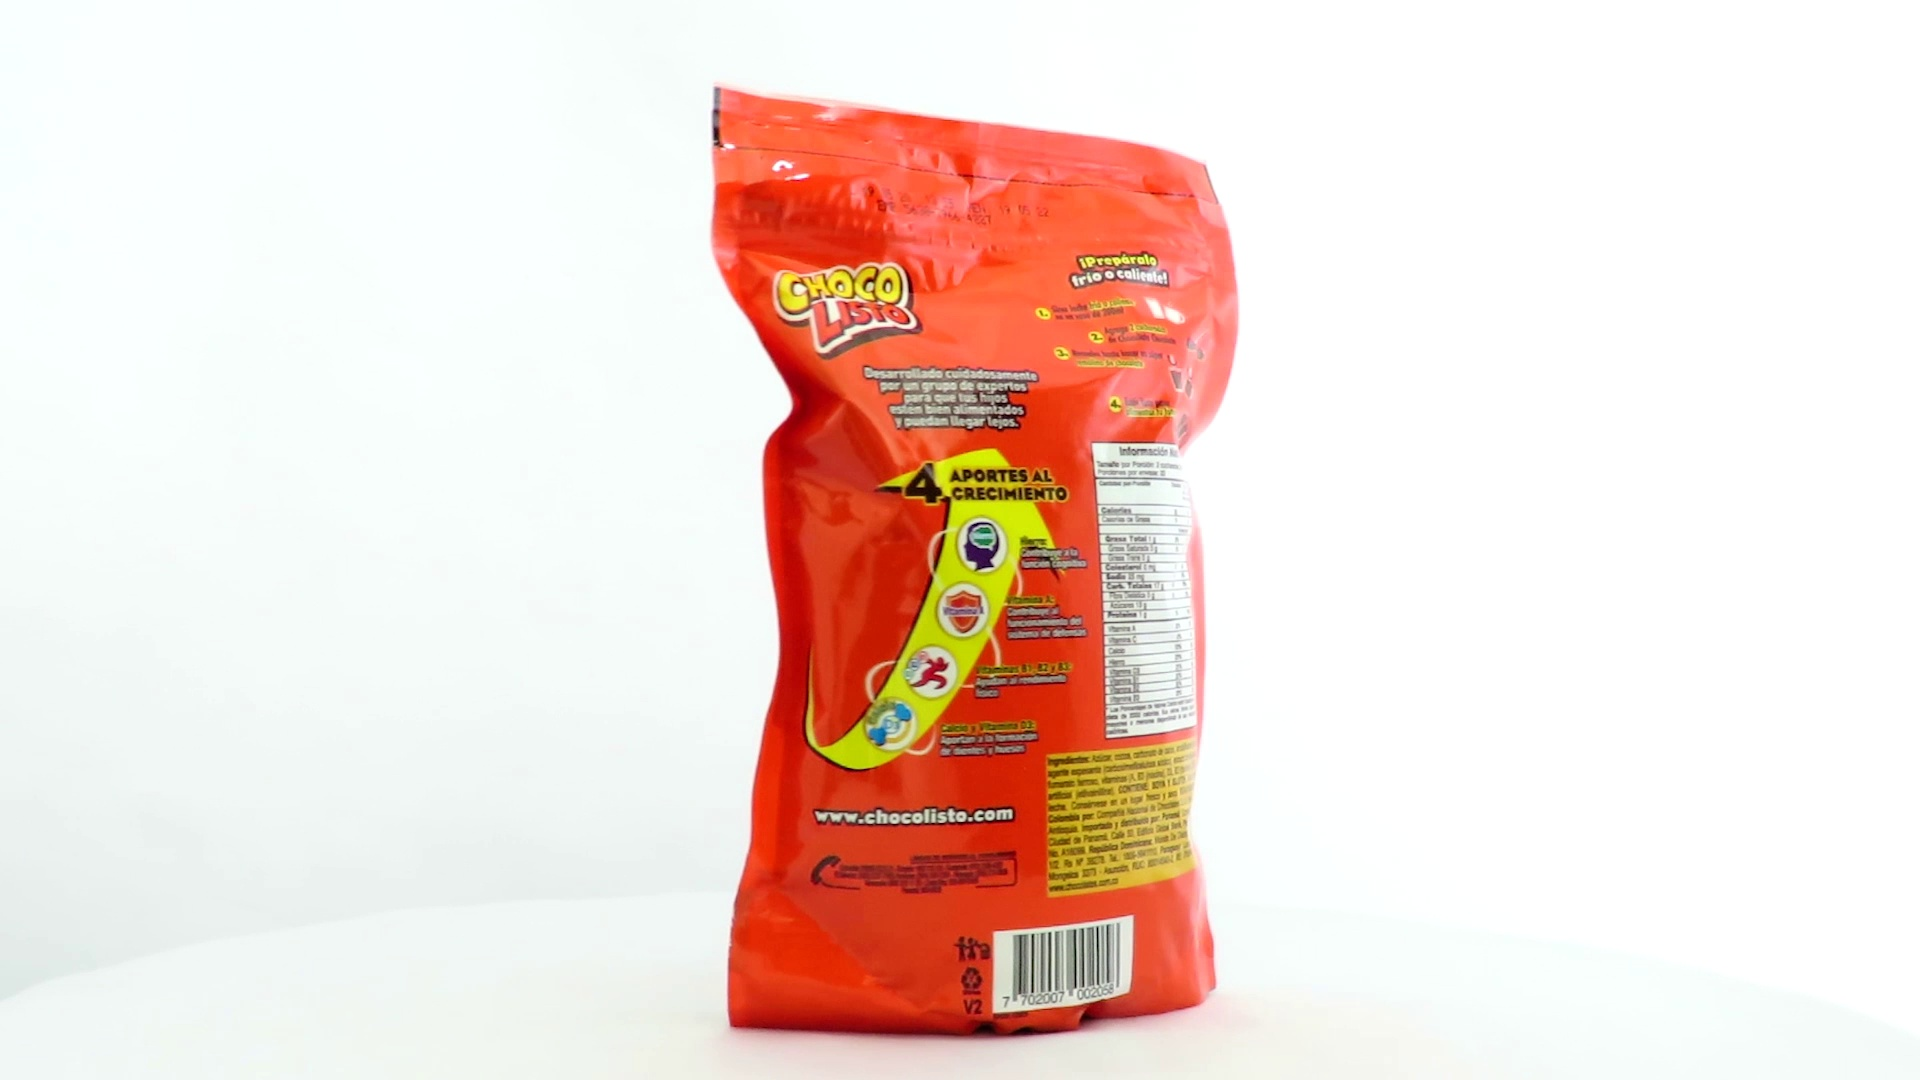COL0170103DYP40000: (705, 80, 1245, 1047)
